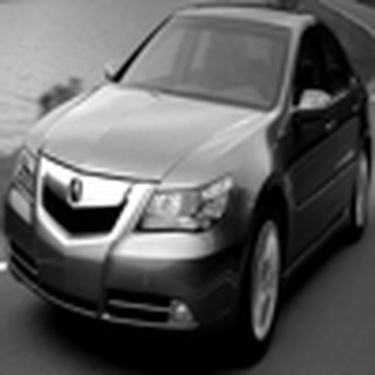car: (1, 1, 368, 370)
